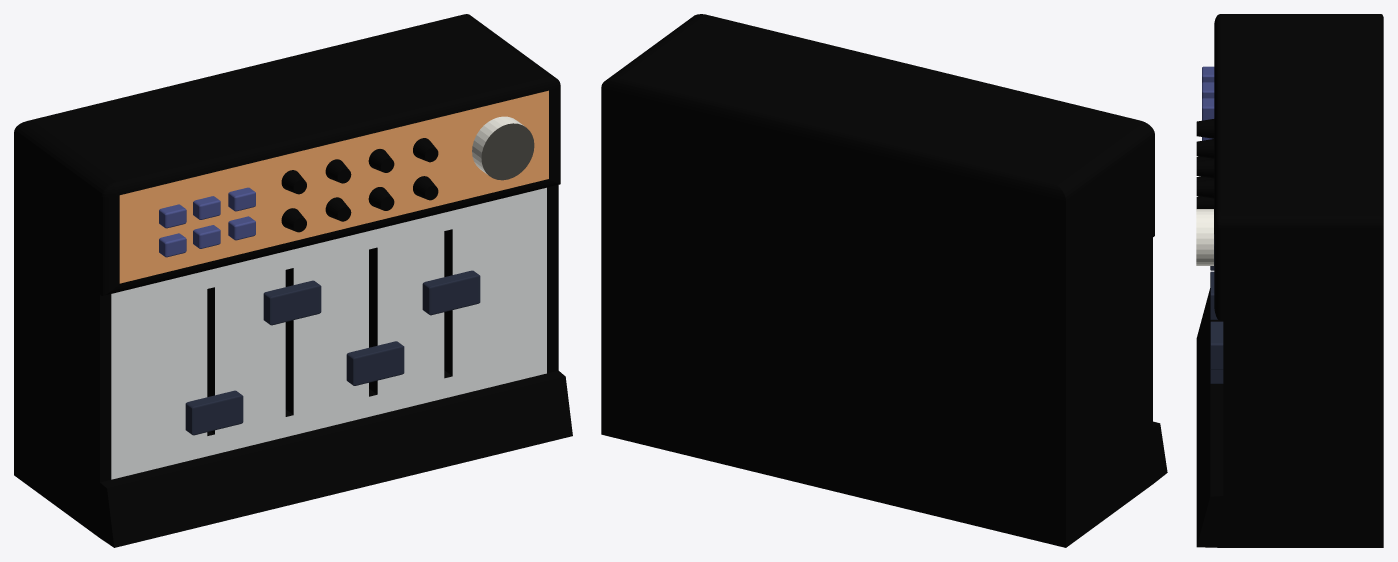
Rendered from mixer4.fbx.
The picture shows the model from 3 angles, left to right: view 1: azimuth 30°, elevation 25°; view 2: azimuth 150°, elevation 25°; view 3: azimuth 270°, elevation 25°; orthographic projection. The views are drawn at different scales.
Visible parts, largest first — view 1: Cube, Cylinder, Cube.010, Cube.003, Cube.002, Cube.001; view 2: Cube; view 3: Cube, Cylinder, Cube.010, Cylinder.002, Cylinder.001, Cylinder.006, Cylinder.005, Cube.005, Cube.003.
Part boxes in pixels (<box>): Cube: <box>14,14,572,547</box>; Cylinder: <box>472,116,534,180</box>; Cube.010: <box>422,270,480,315</box>; Cube.003: <box>185,390,243,435</box>; Cube.002: <box>346,341,404,385</box>; Cube.001: <box>263,280,321,325</box>; Cube: <box>601,14,1167,547</box>; Cube: <box>1196,14,1383,547</box>; Cylinder: <box>1196,209,1214,265</box>; Cube.010: <box>1210,321,1223,369</box>; Cylinder.002: <box>1196,158,1214,178</box>; Cylinder.001: <box>1196,178,1214,198</box>; Cylinder.006: <box>1196,119,1214,138</box>; Cylinder.005: <box>1196,139,1214,158</box>; Cube.005: <box>1202,98,1214,120</box>; Cube.003: <box>1210,271,1217,319</box>.
Bounding box in the file's own units: 193 × 143 × 73.45.
